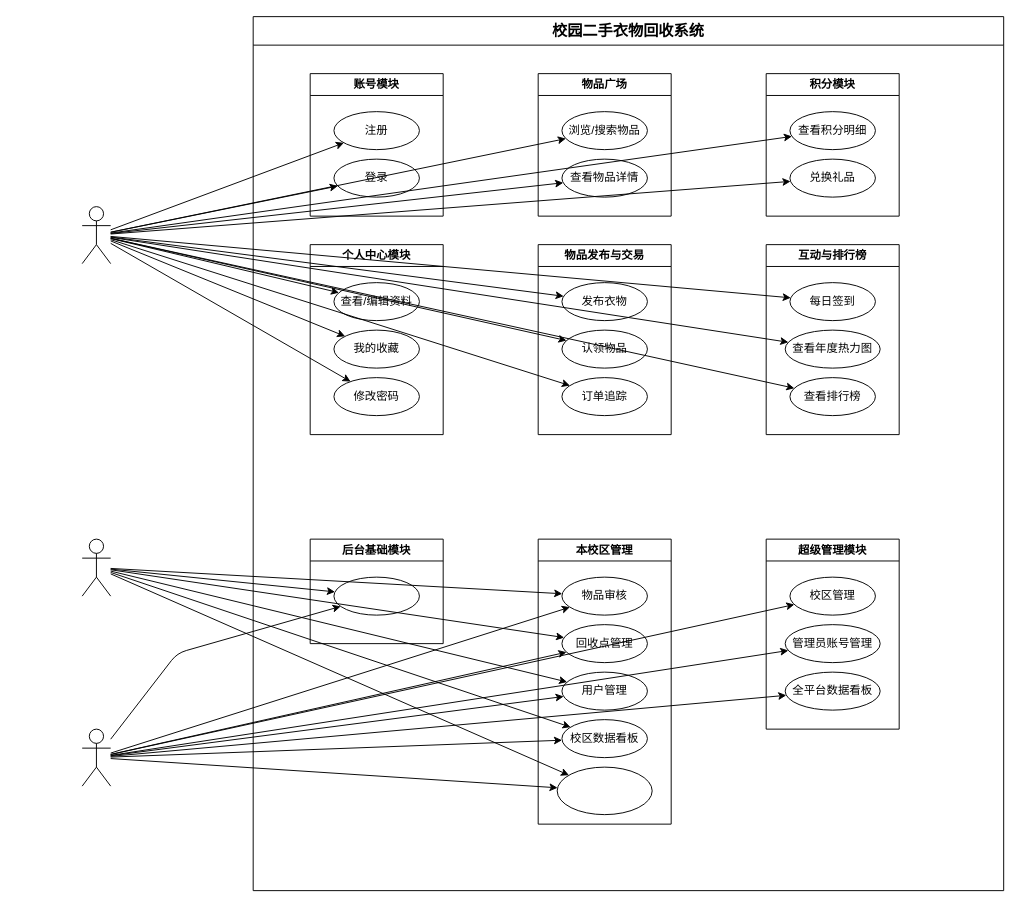
This 1020x907 diagram has some shape labels left out. The shapes that lost their labels are listed below. From the top down, each one's centre as x and y in pixels, then its label:
the point at 96,235: 普通学生 (USER)
the point at 96,567: 校区管理员 (CAMPUS_ADMIN)
the point at 376,595: 管理员登录
the point at 96,757: 超级管理员 (SUPER_ADMIN)
the point at 604,790: 礼品与兑换管理
